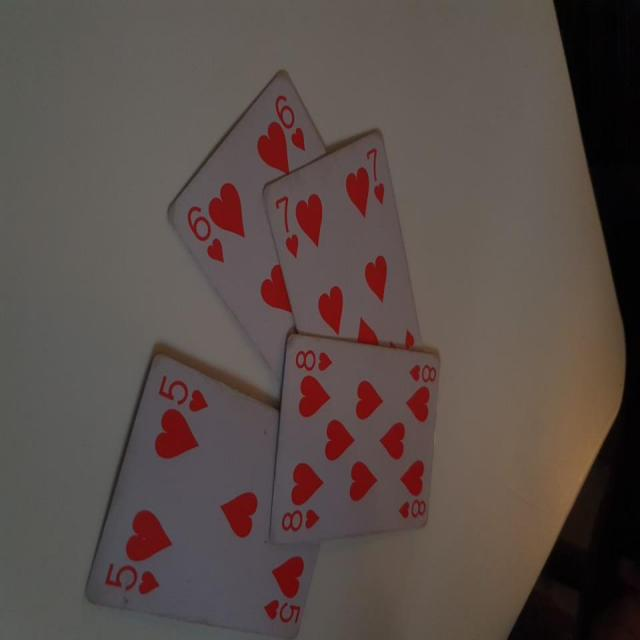5 Hearts: (80, 345, 321, 638)
6 Hearts: (155, 56, 335, 391)
7 Hearts: (262, 116, 435, 353)
8 Hearts: (264, 334, 444, 540)
